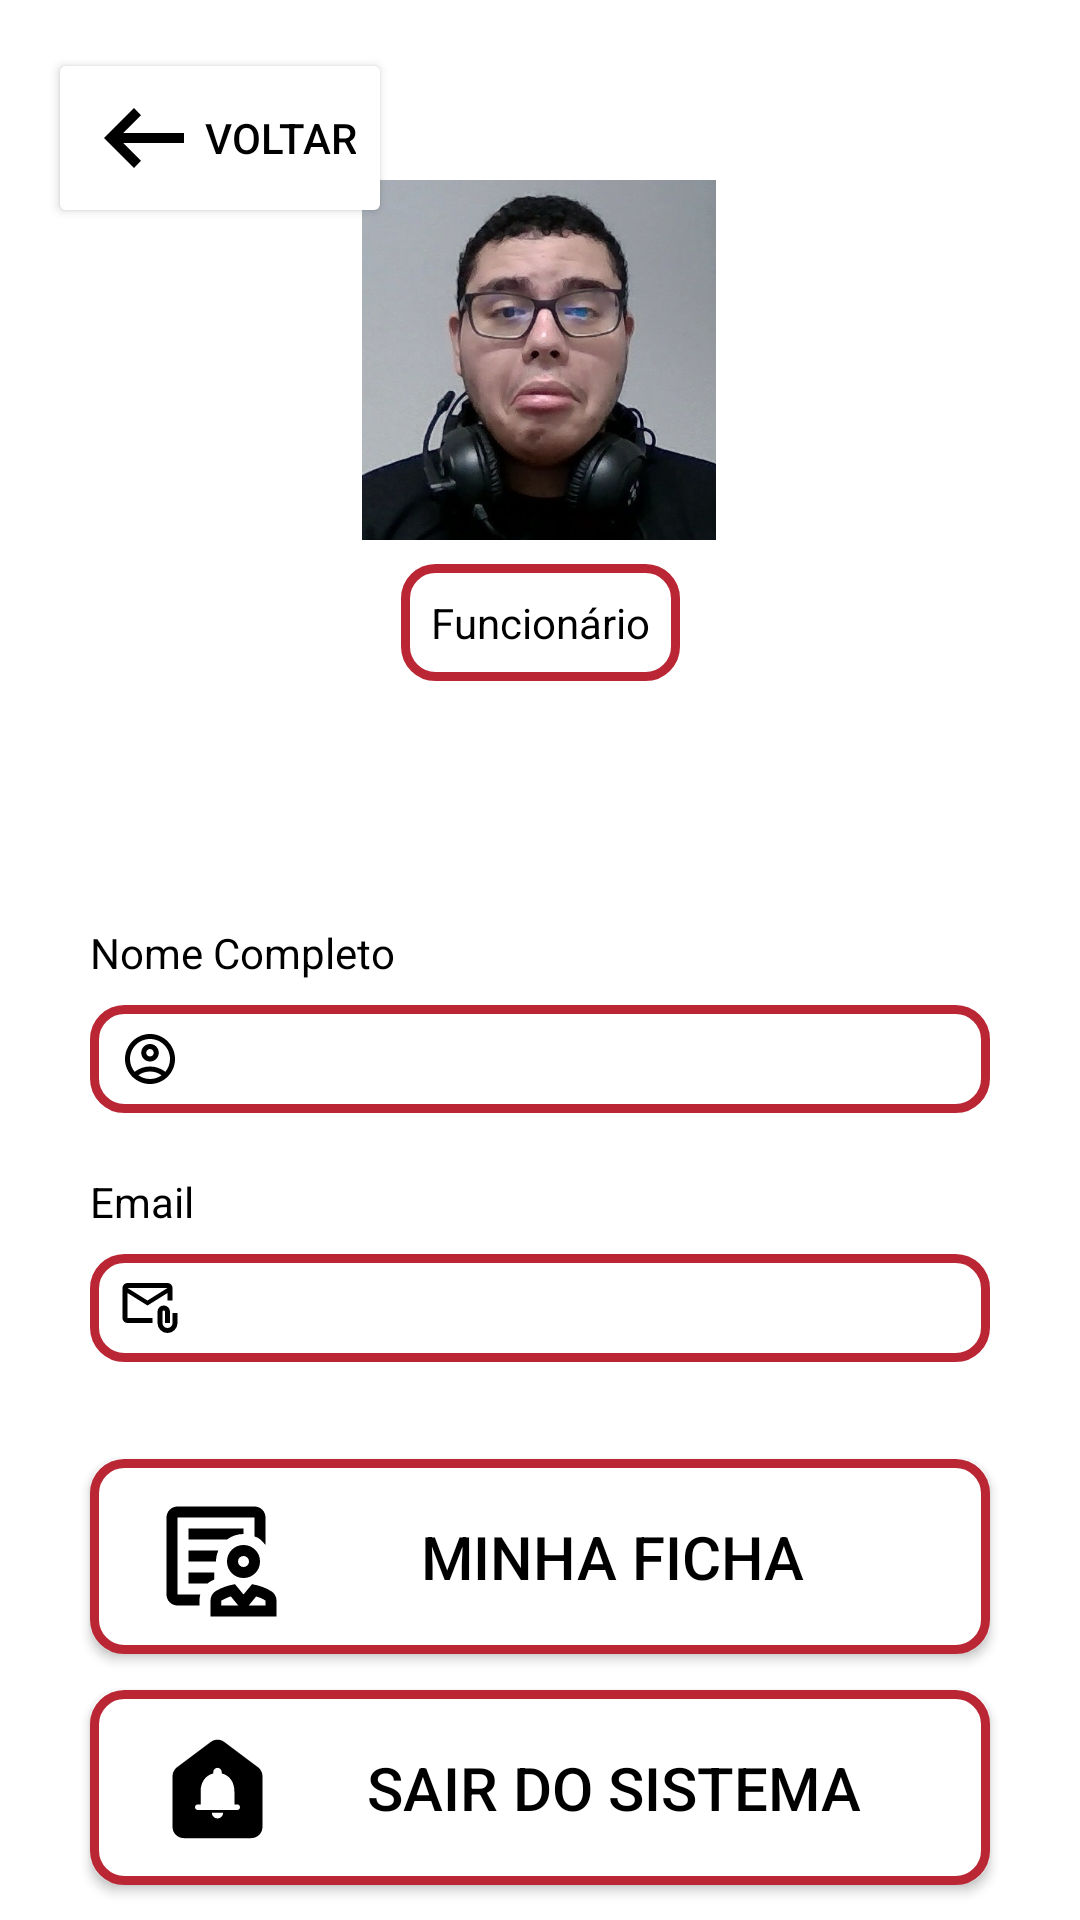

Icon click points for this 1080px x 1920px phone screenshot, format (x,y):
account circle: (150,1059)
perfil: (537,360)
